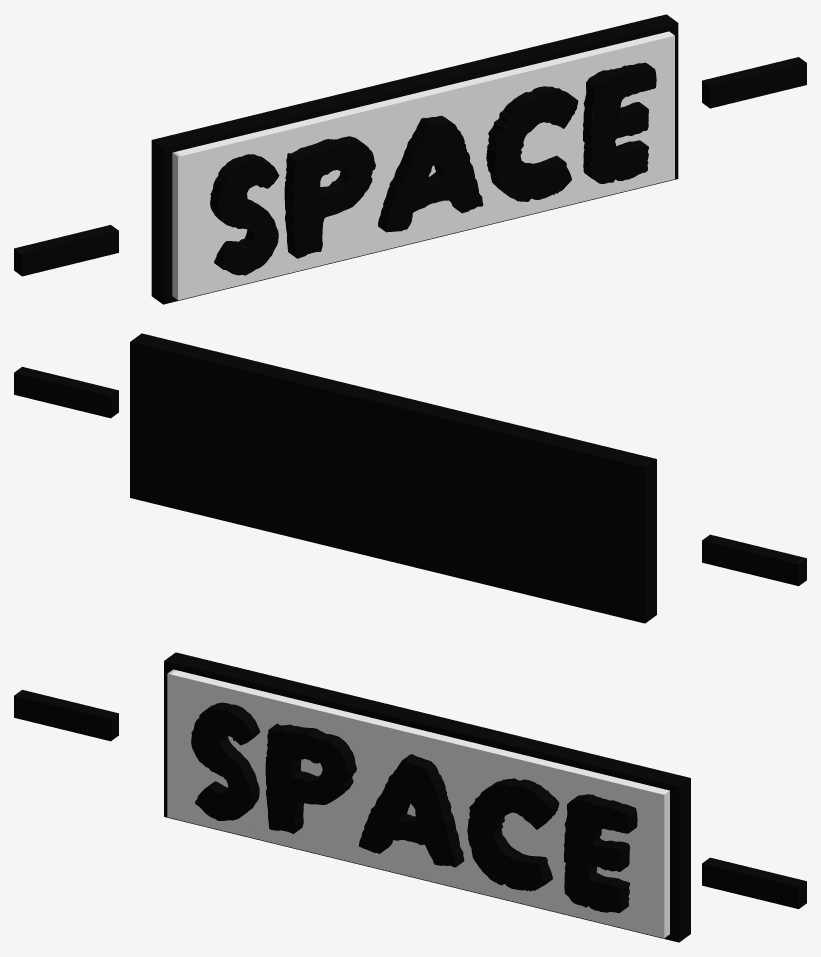
Rendered from key_UI.obj.
The picture shows the model from 3 angles, top to bottom: view 1: azimuth 30°, elevation 25°; view 2: azimuth 150°, elevation 25°; view 3: azimuth 330°, elevation 25°; orthographic projection.
Visible parts, largest first — view 1: 立方体; view 2: 立方体; view 3: 立方体.
Boxes of the visible parts, x1,y1,x2,y2 form: 立方体: (14,14,806,304); 立方体: (14,333,806,623); 立方体: (14,652,806,942).
Bounding box in the file's own units: 2.36 × 0.4478 × 0.1339.
1 material, 1 textured.
